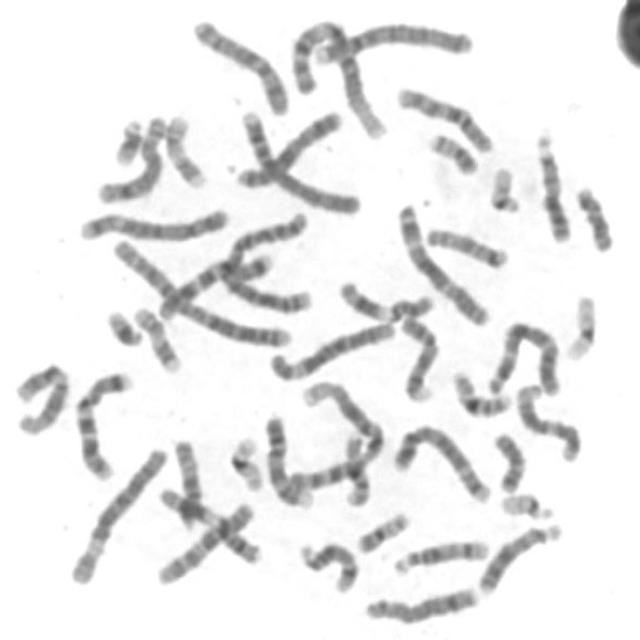A1: (284, 10, 391, 140), (284, 374, 389, 494)
A2: (107, 231, 299, 350), (216, 204, 317, 316)
A3: (391, 196, 493, 328), (479, 313, 566, 399)
B4: (234, 103, 364, 218), (304, 16, 477, 68)
B5: (386, 416, 494, 505), (72, 199, 232, 244)
C10: (150, 495, 258, 588), (390, 78, 498, 156)
C11: (152, 480, 264, 566), (331, 273, 437, 323)
C12: (509, 376, 585, 463), (8, 355, 72, 438)
C6: (62, 439, 170, 587), (262, 313, 398, 382)
C7: (150, 246, 276, 322), (68, 363, 136, 483)
C8: (90, 108, 170, 206), (358, 577, 482, 626)
C9: (257, 406, 316, 511), (393, 307, 441, 405)
D13: (472, 515, 566, 597), (528, 124, 574, 244)
D14: (387, 531, 492, 577), (292, 534, 360, 595)
D15: (420, 219, 511, 271), (167, 431, 205, 531)
E16: (444, 362, 514, 419), (337, 424, 372, 508)
E17: (128, 298, 184, 375), (159, 105, 209, 190)
E18: (569, 177, 617, 254), (487, 425, 529, 495)
F19: (559, 286, 601, 364), (222, 429, 266, 493)
F20: (421, 124, 481, 177), (351, 505, 412, 555)
G21: (107, 109, 146, 168), (99, 302, 147, 349)
G22: (482, 158, 524, 216), (494, 485, 557, 522)
X: (185, 11, 292, 117), (231, 102, 345, 191)
